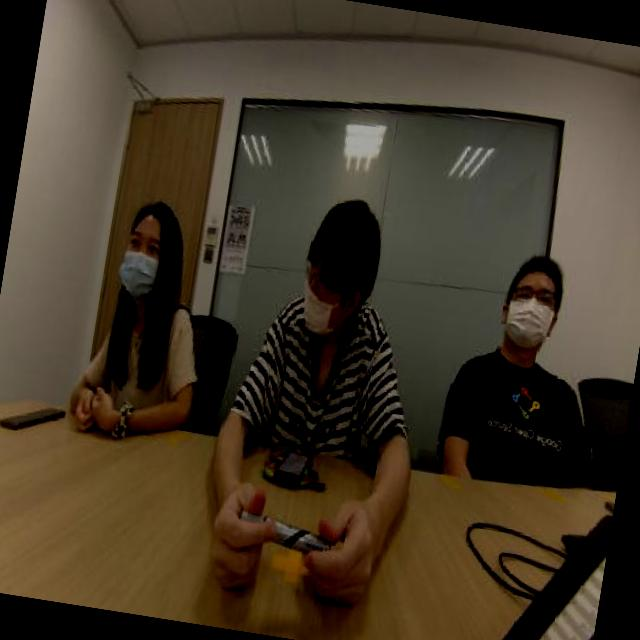Person: (426, 204, 636, 506), (248, 158, 450, 460), (65, 142, 237, 426)
